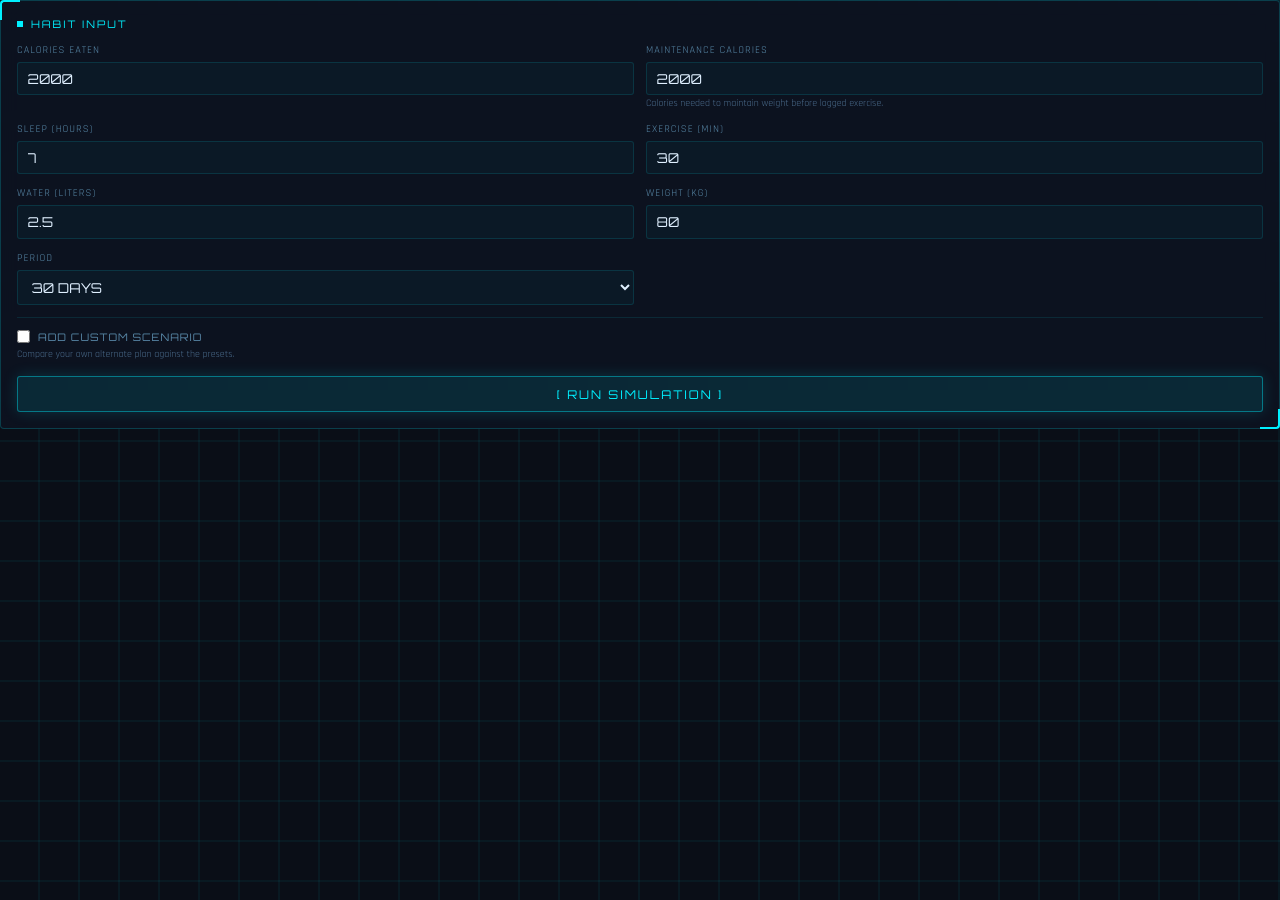
InputForm › shows non-blocking cautions for unusual inputs
Step 1. Replace the text in the number field labelled "Calories Eaten" with "900" → (326,79), box [17, 62, 634, 95]
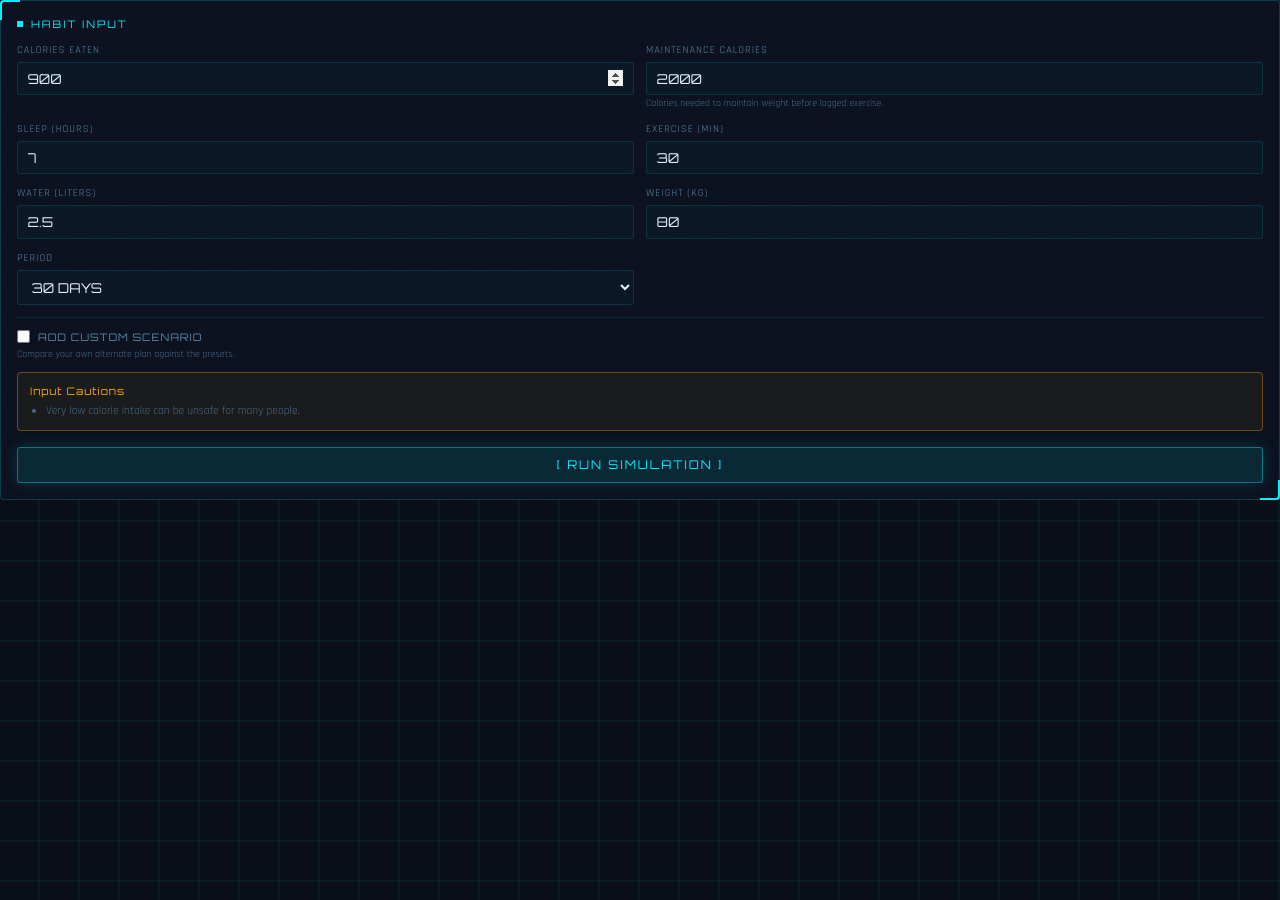
Step 2. Replace the text in the number field labelled "Exercise (min)" with "240" → (954,158), box [646, 141, 1263, 174]
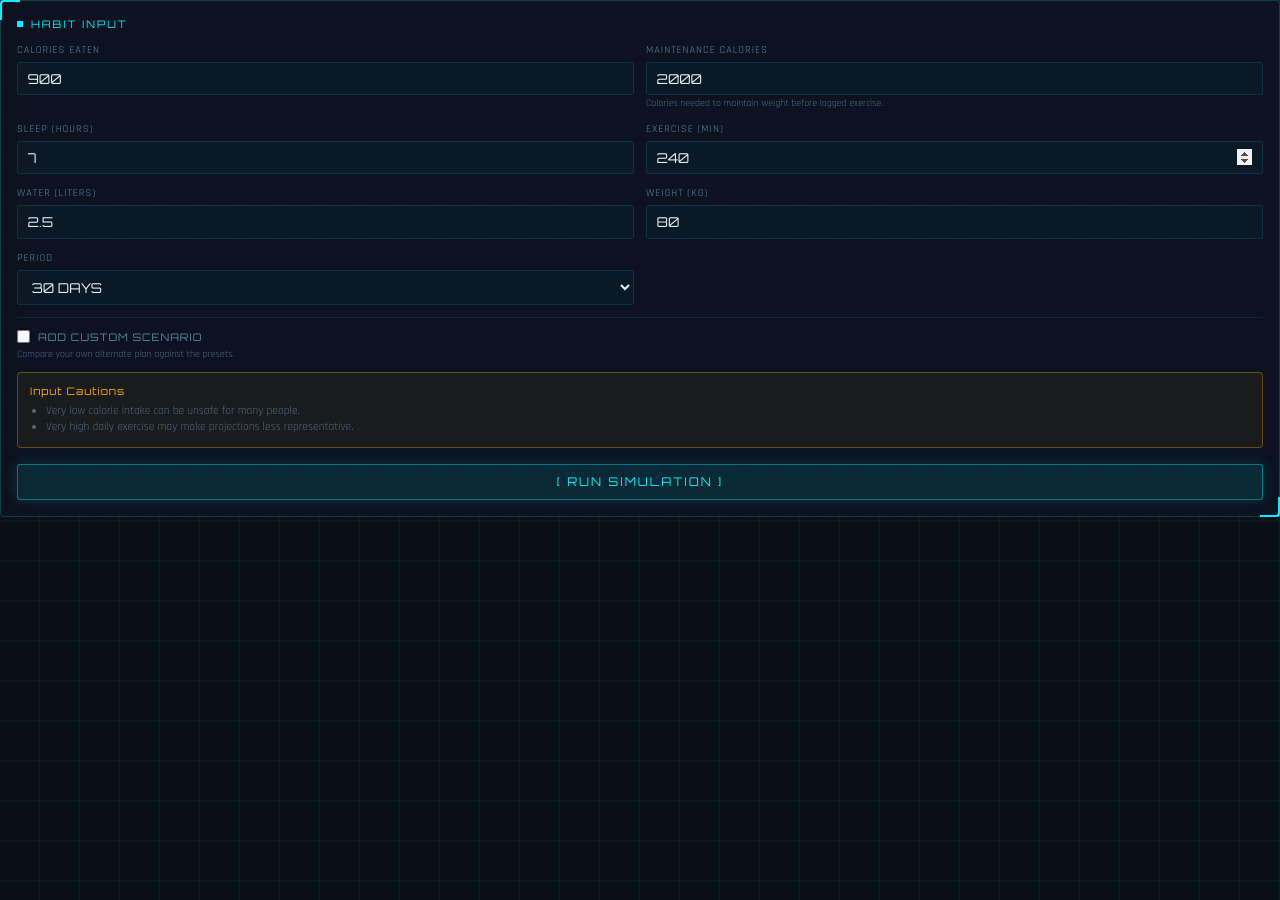
Now the text "Input Cautions" is shown, box [30, 384, 125, 398]
Now the list item "Very low calorie intake can be unsafe for many people." is shown, box [46, 403, 300, 418]
Now the list item "Very high daily exercise may make projections less representative." is shown, box [46, 419, 353, 434]
